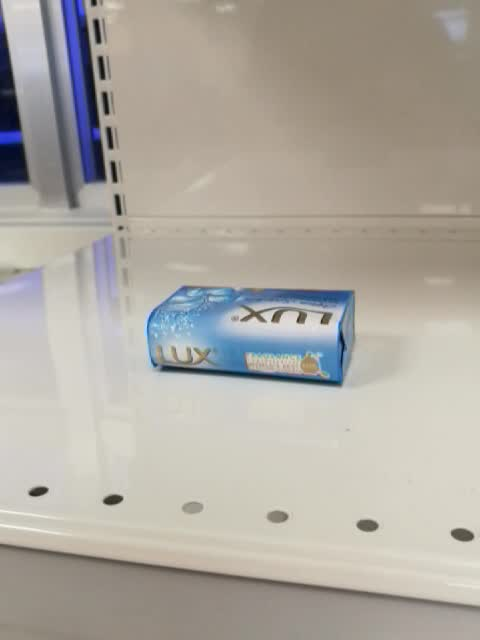soap: (145, 283, 358, 390)
